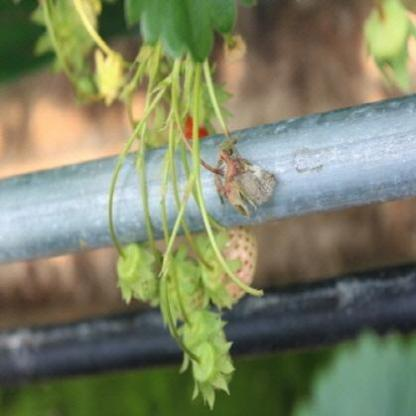Strawberry_Gray_Mold: (212, 148, 276, 218)
